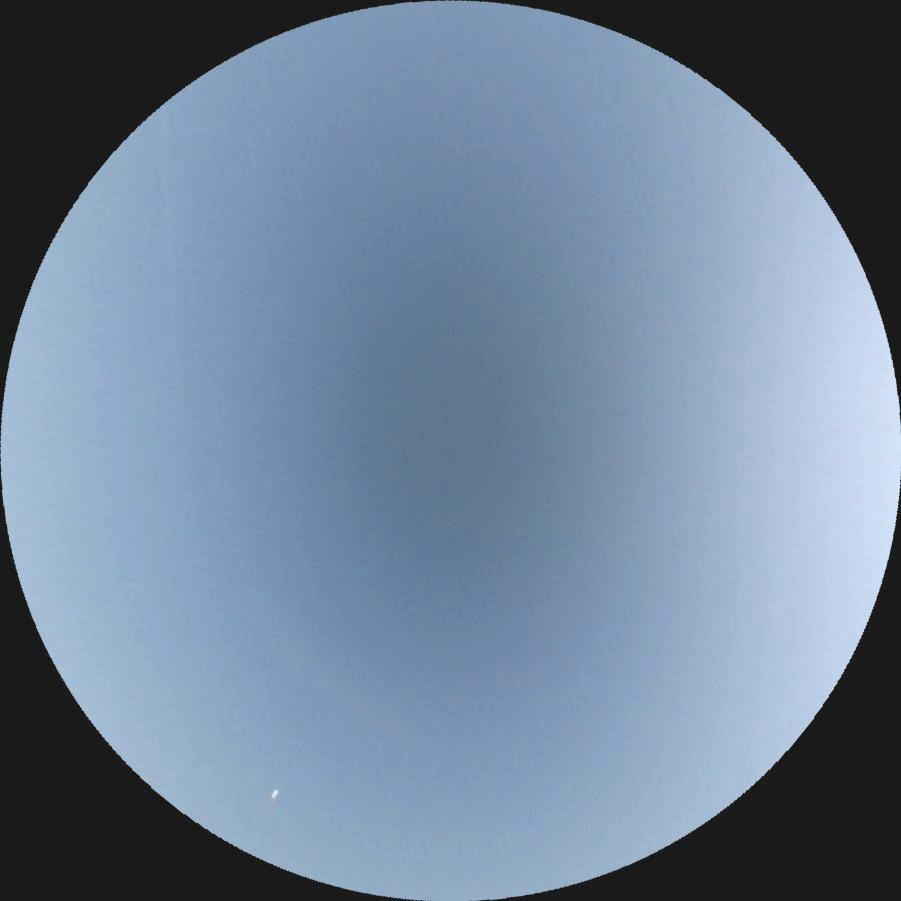contrail young: (156, 104, 192, 454)
